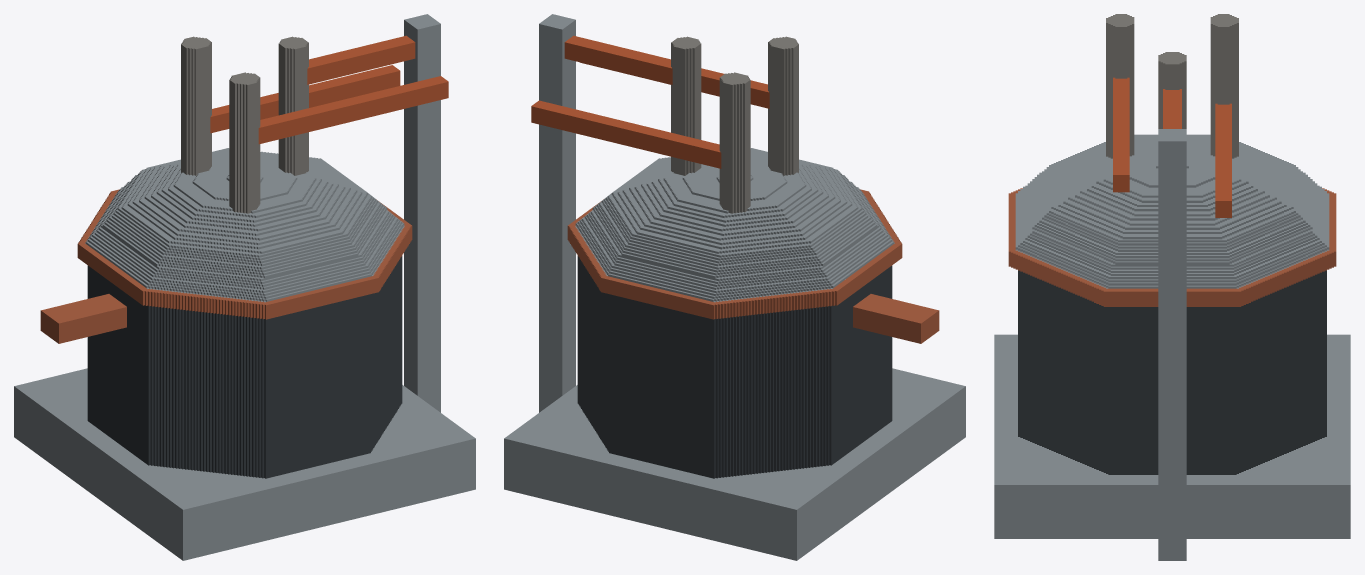
The model's file is arc_furnace.glb.
The picture shows the model from 3 angles, left to right: view 1: azimuth 30°, elevation 25°; view 2: azimuth 150°, elevation 25°; view 3: azimuth 270°, elevation 25°; orthographic projection. The views are drawn at different scales.
Visible parts, largest first — view 1: arc_furnace:compound; view 2: arc_furnace:compound; view 3: arc_furnace:compound.
Part boxes in pixels (x1,y1,x2,y2): arc_furnace:compound: [14, 14, 475, 560]; arc_furnace:compound: [504, 14, 965, 560]; arc_furnace:compound: [994, 14, 1350, 560].
Size of the model in its own units: 1.97 by 2 by 1.5.
